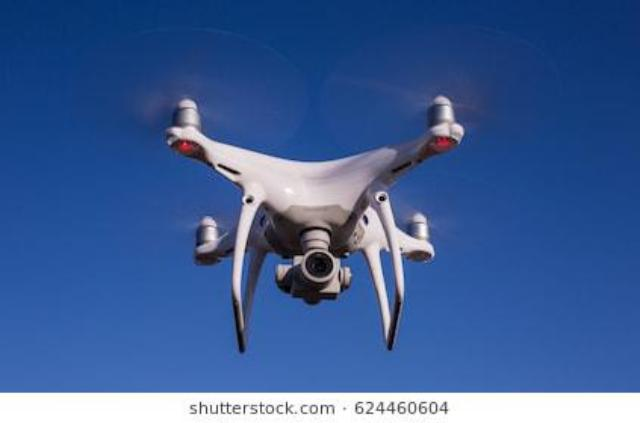drone: (0, 109, 640, 423)
